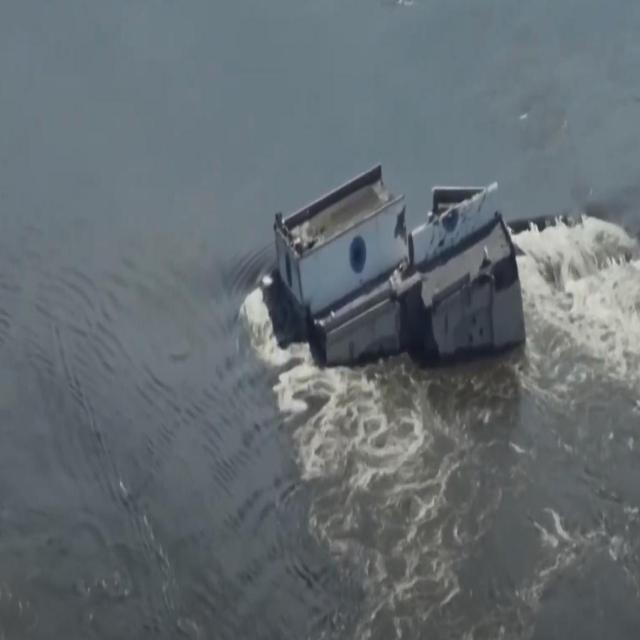flood: (0, 5, 640, 640)
house: (267, 158, 528, 388)
